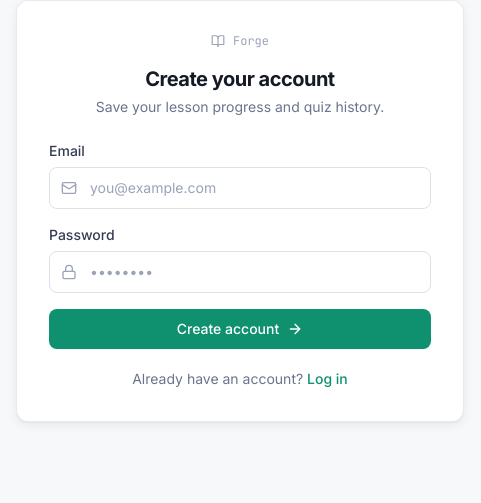
Test case: AuthPage › shows validation error message from Error.message when register fails (400)
Type "valid@example.com" into the field labelled "Email". click: coordinates (240, 188)
box: left=49, top=167, right=431, bottom=209
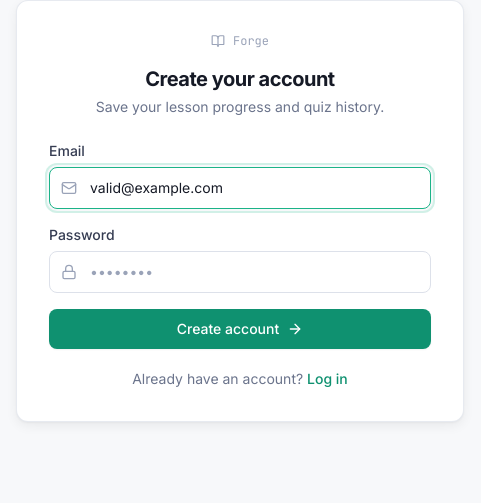
Type "password123" into the password field labelled "Password". click: coordinates (240, 272)
box: left=49, top=251, right=431, bottom=293
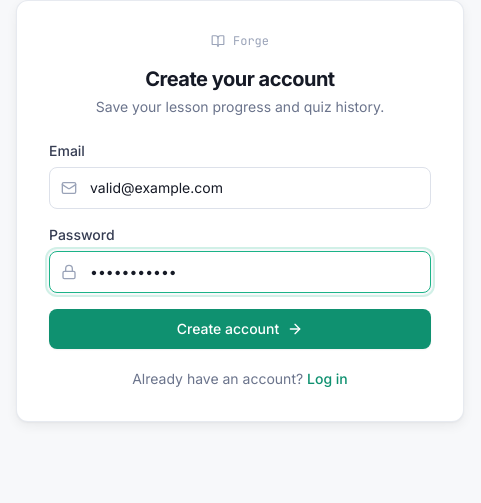
Click the button "Create account". click: coordinates (240, 329)
box: left=49, top=309, right=431, bottom=349
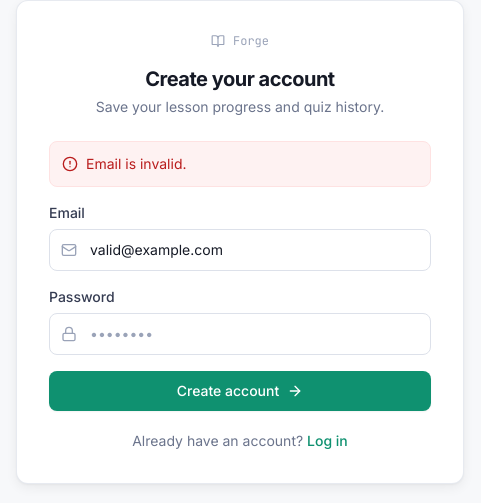
Now the text "Email is invalid." is shown, box left=86, top=154, right=186, bottom=174
